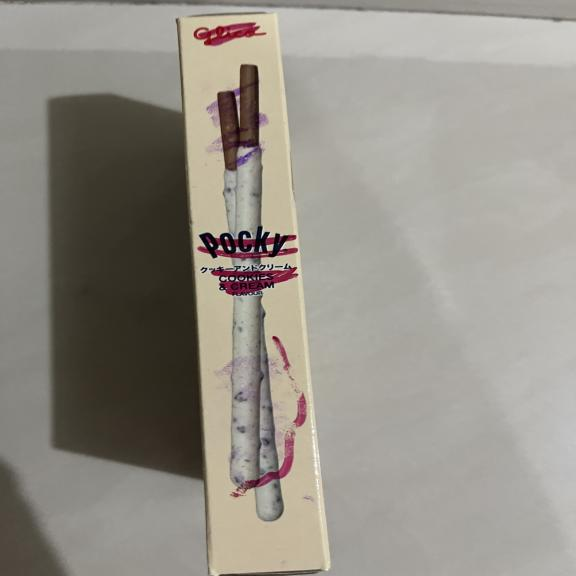Kertas: (171, 11, 330, 576)
